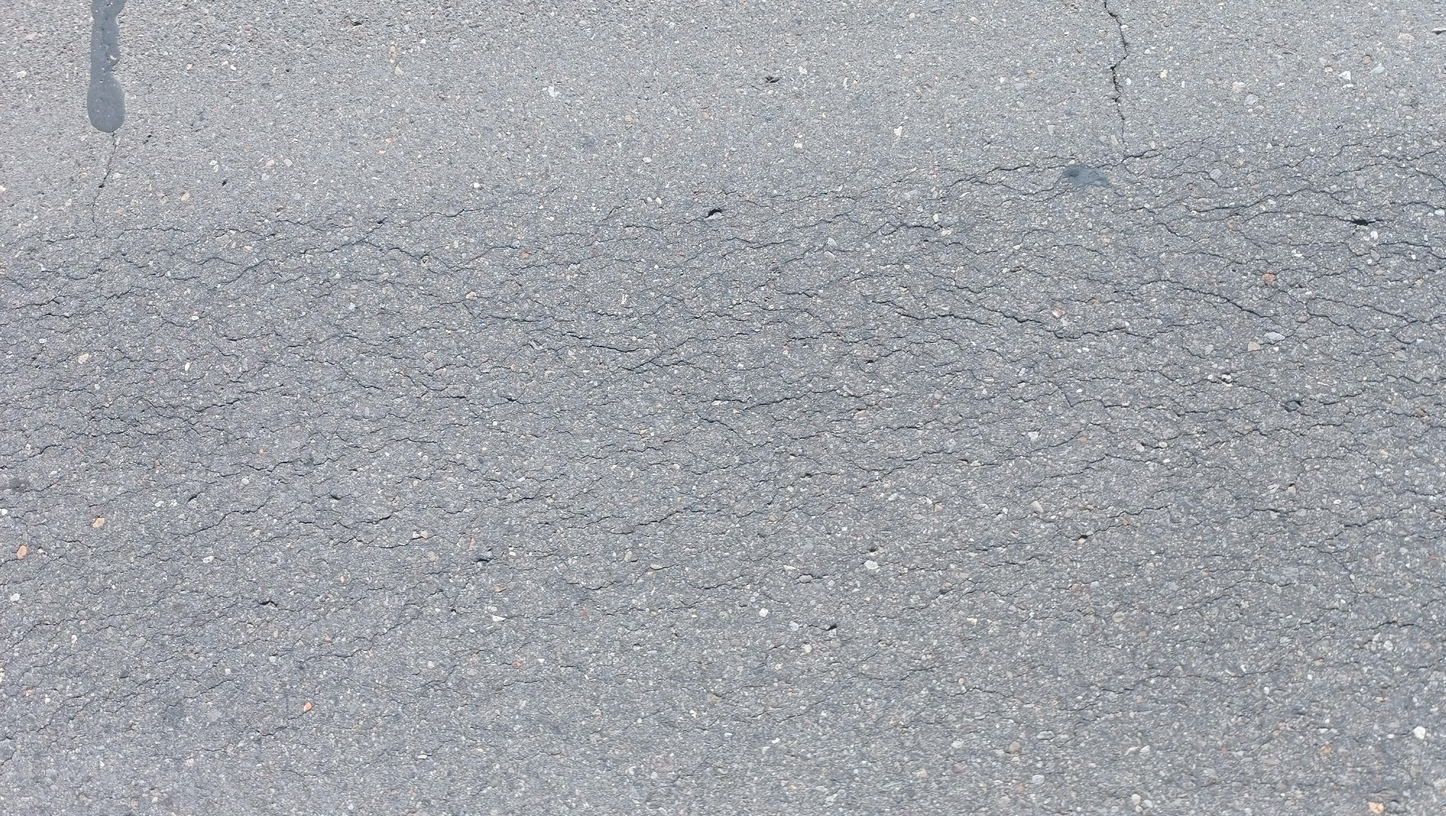GRIETA: (1104, 1, 1131, 142), (91, 132, 116, 226)
PARCHE: (86, 0, 125, 133)
PIEL DE COCODRILO: (0, 123, 1446, 796)
